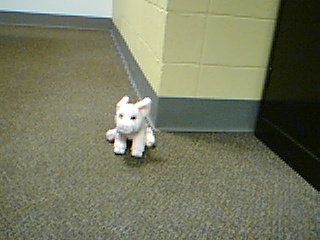piggy: (105, 94, 158, 160)
